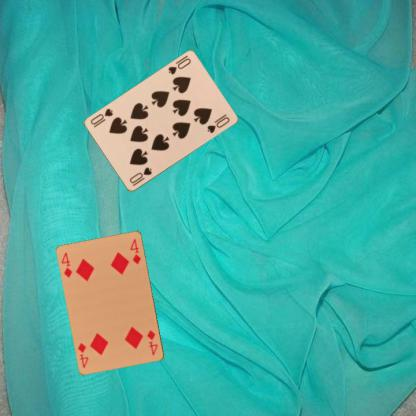10s: (127, 165, 153, 187), (165, 56, 192, 76)
4d: (144, 327, 159, 356), (59, 250, 74, 279)
